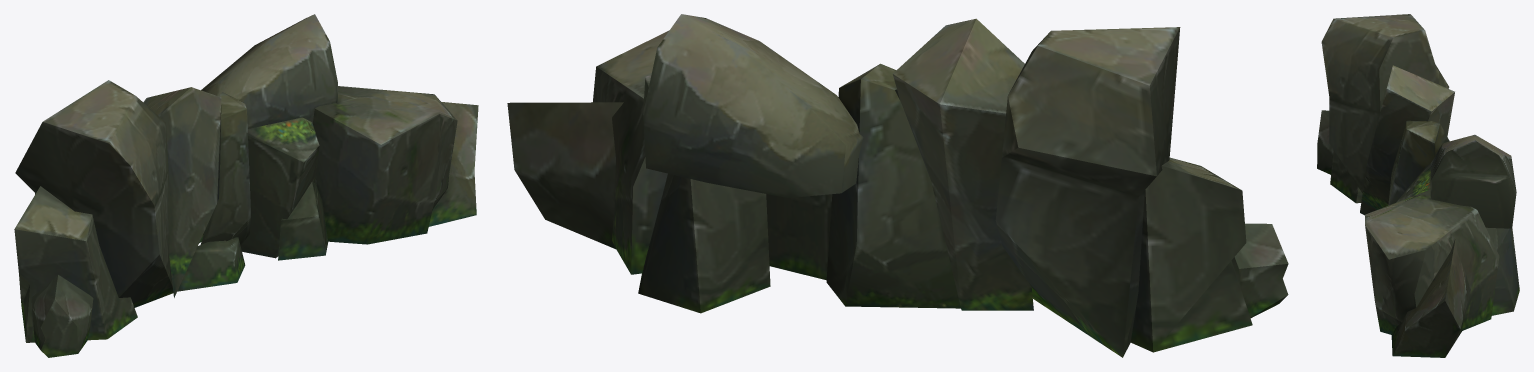
The model's file is fb_lyhg_zj_24_d.FBX.
3 renders of one model, left to right at view 1: azimuth 30°, elevation 25°; view 2: azimuth 150°, elevation 25°; view 3: azimuth 270°, elevation 25°, orthographic. The views are drawn at different scales.
Parts seen in each view (by area): view 1: fb_lyhg_zj_24_d; view 2: fb_lyhg_zj_24_d; view 3: fb_lyhg_zj_24_d.
Part boxes in pixels (x1,y1,x2,y2): fb_lyhg_zj_24_d: (14,14,478,357); fb_lyhg_zj_24_d: (507,14,1288,357); fb_lyhg_zj_24_d: (1317,14,1519,357).
Size of the model in its own units: 567 by 221 by 226.
